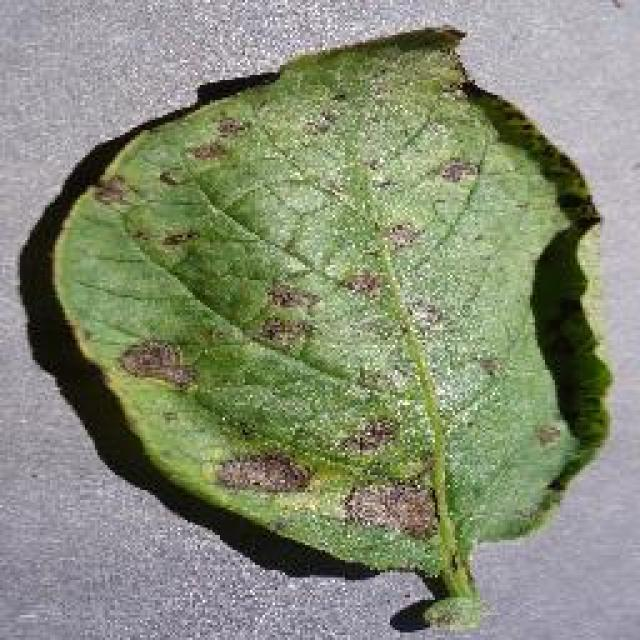early_blight: (40, 20, 615, 632)
